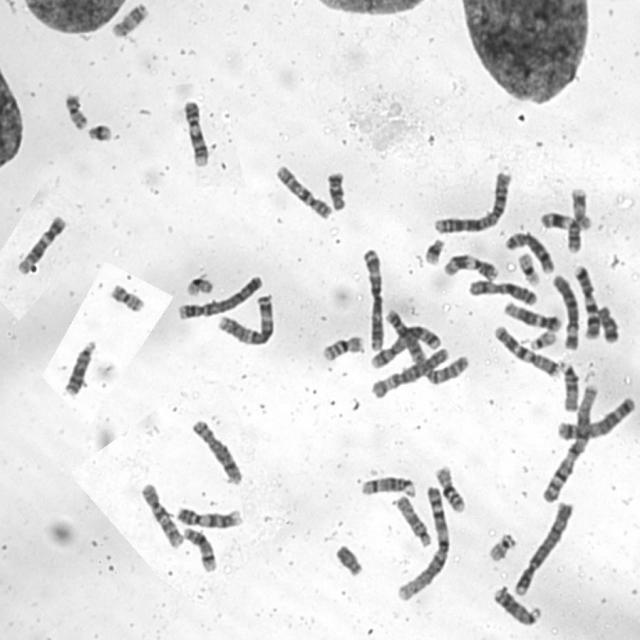A1: (538, 380, 601, 504), (393, 484, 452, 602)
A2: (382, 307, 470, 384), (431, 167, 512, 236)
A3: (214, 290, 277, 348), (359, 246, 386, 351)
B4: (512, 499, 574, 598), (174, 271, 265, 321)
B5: (554, 392, 638, 442), (368, 322, 444, 370)
C10: (272, 161, 334, 222), (138, 480, 186, 551)
C11: (538, 208, 583, 254), (440, 251, 500, 282)
C12: (14, 212, 69, 276), (502, 298, 563, 333)
C6: (368, 344, 451, 399), (549, 270, 581, 354)
C7: (491, 322, 561, 378), (572, 261, 600, 339)
C8: (189, 416, 244, 487), (501, 229, 555, 275)
C9: (181, 98, 210, 168), (173, 504, 245, 530)
D13: (490, 584, 543, 628), (62, 337, 98, 397)
D14: (181, 524, 217, 573), (358, 473, 418, 498)
D15: (392, 493, 432, 549), (557, 357, 581, 413)
E16: (432, 462, 467, 514), (319, 333, 366, 363)
E17: (108, 0, 148, 38), (569, 184, 593, 232)
E18: (595, 302, 620, 344), (325, 168, 348, 212)
F19: (516, 250, 542, 286), (183, 272, 216, 298)
F20: (108, 280, 145, 313), (61, 90, 90, 131)
G21: (423, 235, 447, 266), (84, 119, 114, 143)
G22: (485, 530, 517, 562), (526, 328, 558, 351)
X: (466, 276, 540, 308)
Y: (333, 540, 365, 578)
